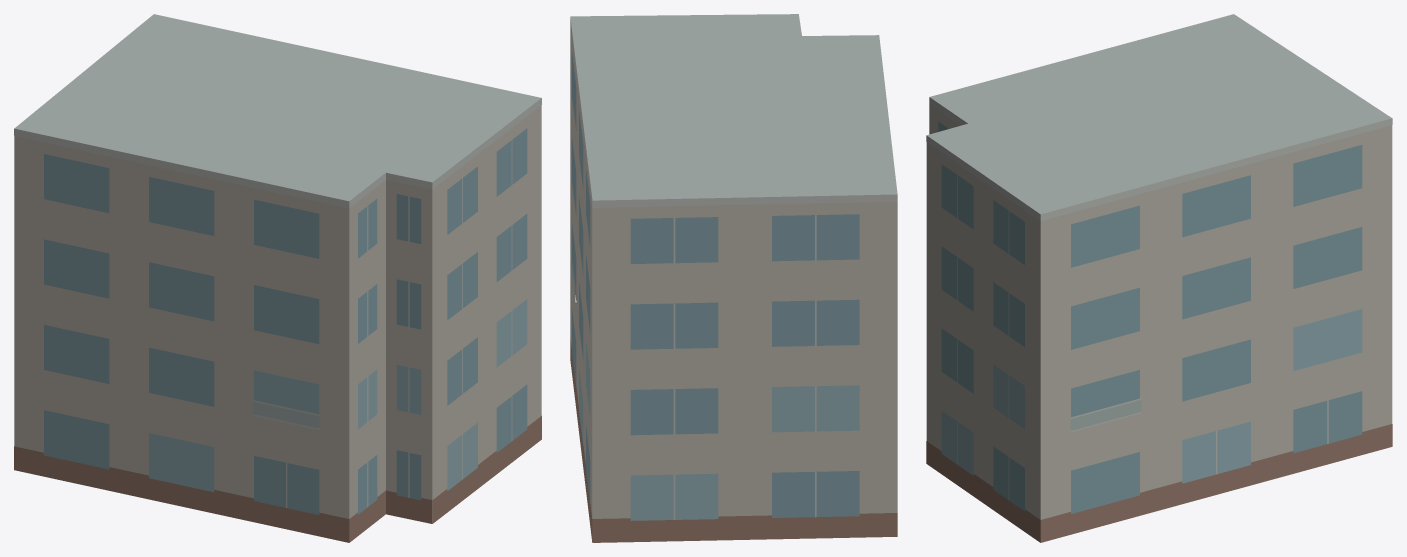
The model's file is survey-upis-32498974.glb.
3 views of the same model, side by side, from view 1: azimuth 30°, elevation 25°; view 2: azimuth 150°, elevation 25°; view 3: azimuth 270°, elevation 25° (orthographic). The views are drawn at different scales.
Visible parts, largest first — view 1: survey-upis-32498974.tmp; view 2: survey-upis-32498974.tmp; view 3: survey-upis-32498974.tmp.
Part boxes in pixels (x1,y1,x2,y2): survey-upis-32498974.tmp: (14,14,541,542); survey-upis-32498974.tmp: (570,14,897,542); survey-upis-32498974.tmp: (926,14,1392,542).
Bounding box in the file's own units: 15.32 × 11.7 × 15.05.
